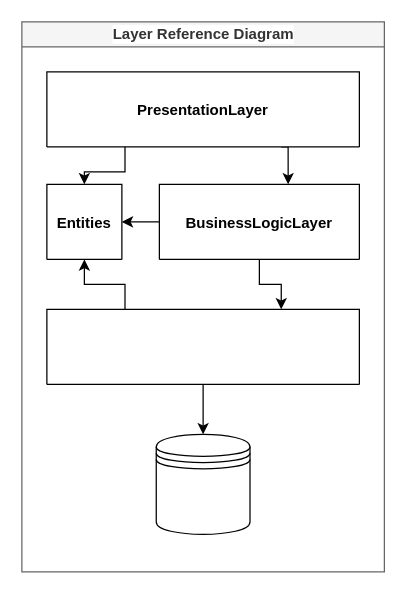
Image size: 406x594. Some labels were removed from this diagram. Each missing label, with the centre of its shape:
"Database" belongs at point 202,483.
"DataLayer" belongs at point 202,346.
